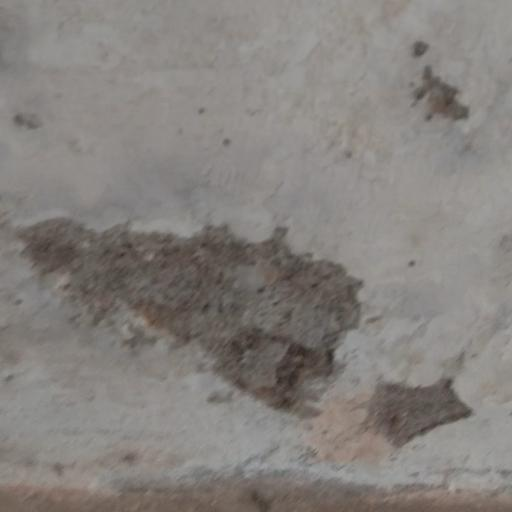spalling: (11, 181, 357, 419), (366, 353, 481, 465)
